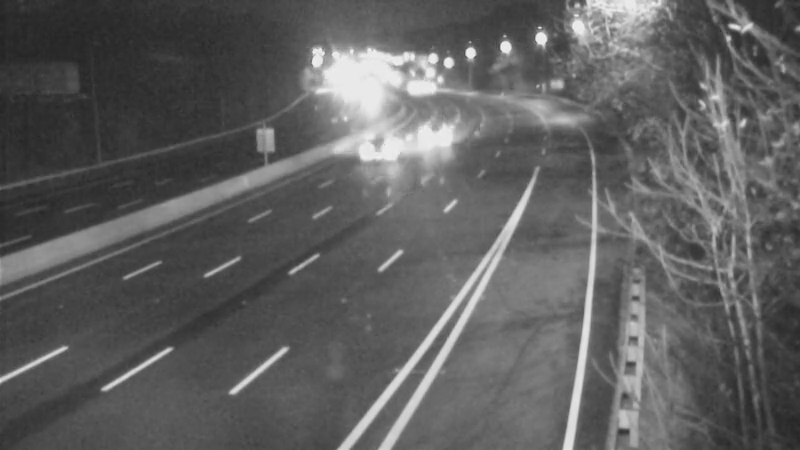vehicle: (408, 105, 458, 155), (361, 119, 411, 169)
